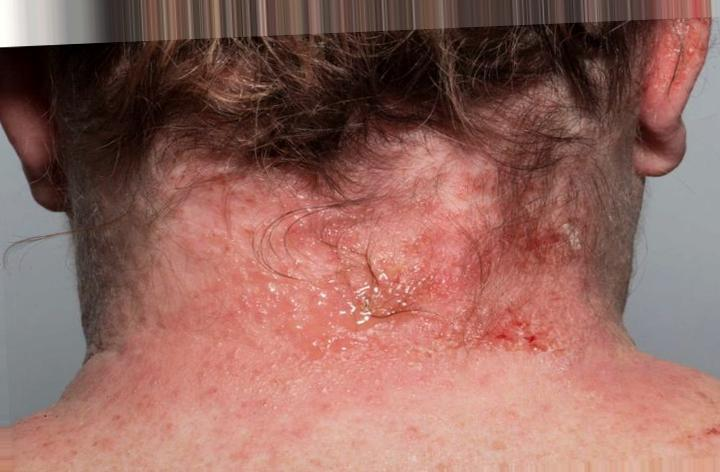Contact Dermatitis: (129, 121, 615, 356)
